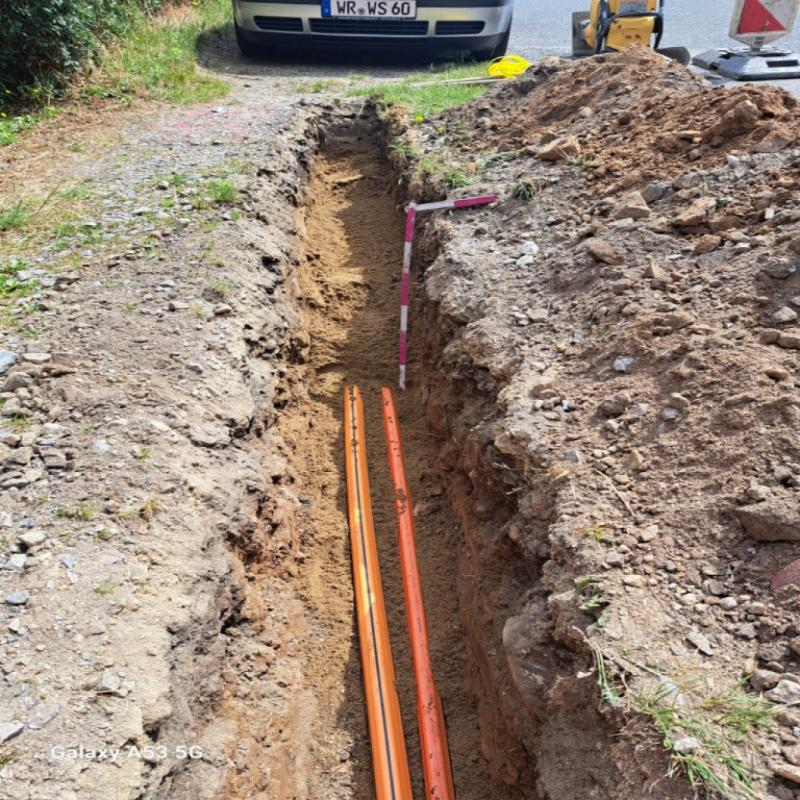Orang-Speednetrohrchen: (381, 389, 453, 800), (345, 391, 408, 800)
